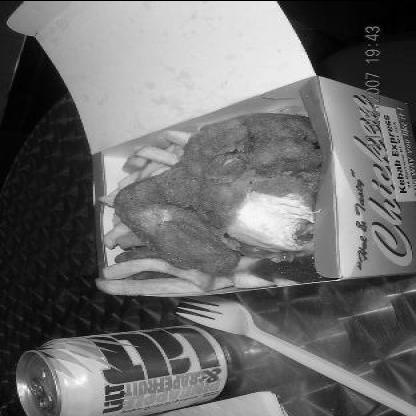alumunium_can: (16, 323, 236, 415)
